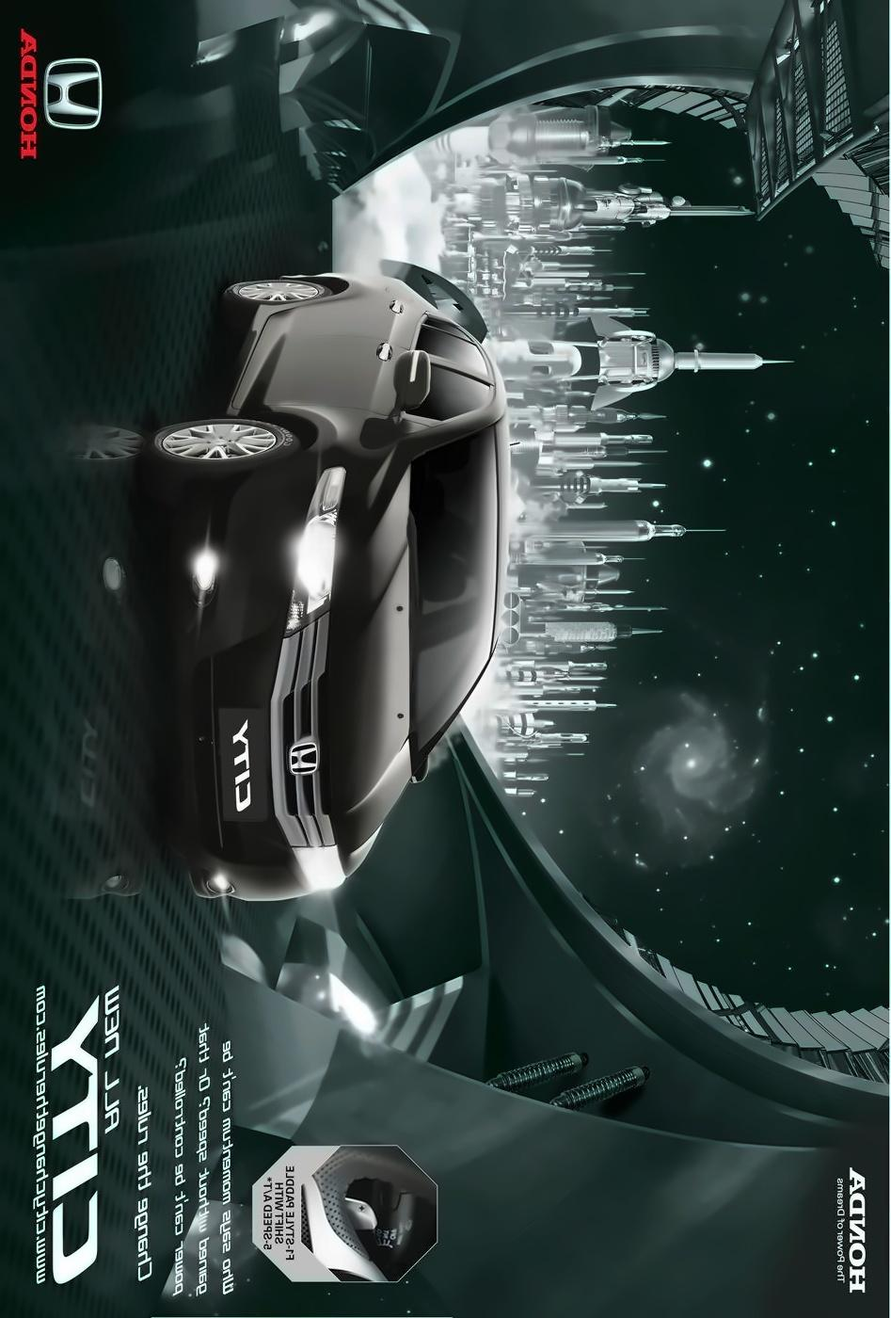Car hood: (320, 438, 413, 869)
Driver-s door - -F-R-: (205, 336, 503, 433)
Fender - -F-L-: (173, 451, 346, 922)
Fender - -F-R-: (256, 404, 435, 503)
Fender - -R-R-: (285, 267, 436, 321)
Headlight - -L-: (291, 842, 347, 896)
Headlight - -R-: (282, 466, 346, 640)
Passenger-s door - -R-R-: (242, 296, 505, 378)
Side bumper - -R-: (207, 298, 307, 430)
Side mirror - -R-: (383, 352, 432, 434)
